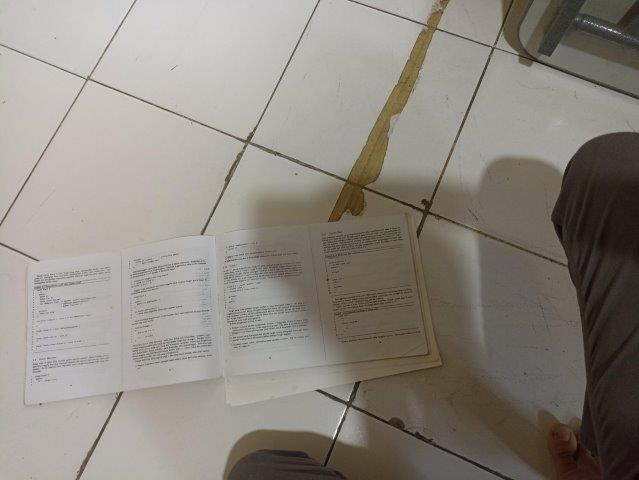kertas: (24, 212, 442, 406)
